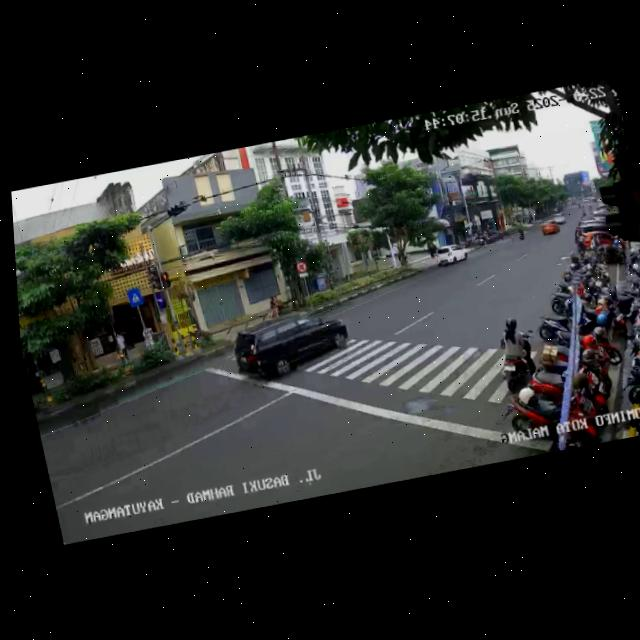car: (226, 302, 359, 388), (433, 240, 473, 268), (538, 216, 562, 239)
motorcycle: (492, 310, 546, 395)
